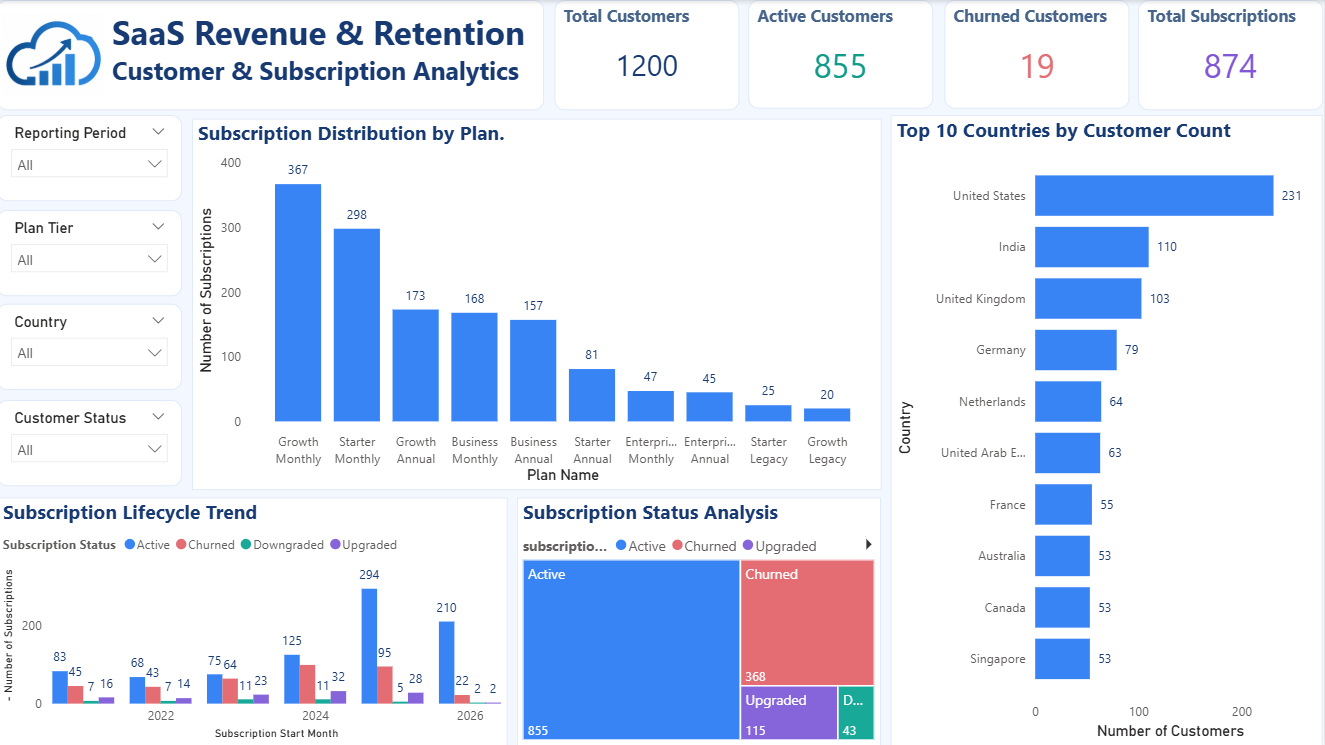

Layout of this report page (visuals, bound fields, positions):
{"tool":"powerbi","page":{"name":"Customer & Subscription Analytics","canvas":[1280,720],"ordinal":1},"visuals":[{"type":"card","title":"Total Customers","fields":{"Values":["customers.Total Customers (Selected Filters)"]},"box":[538.1,0,178.6,106.2],"z":0},{"type":"card","title":"Active Customers","fields":{"Values":["nrr_grr_monthly.Latest Active Customers"]},"box":[725.1,0,178.6,105],"z":1000},{"type":"card","title":"Churned Customers","fields":{"Values":["customers.Churned Customers"]},"box":[914.5,0,178.6,105],"z":2000},{"type":"card","title":"Total Subscriptions","fields":{"Values":["customers.Total Subscriptions"]},"box":[1101.4,0,178.6,106.2],"z":3000},{"type":"slicer","fields":{"Values":["subscription_months.period_month"]},"box":[0,111,178.6,83.2],"z":4000},{"type":"slicer","fields":{"Values":["plans.tier"]},"box":[0,202.7,178.6,83.2],"z":5000},{"type":"slicer","fields":{"Values":["customers.country"]},"box":[0,293.2,178.6,83.2],"z":6000},{"type":"slicer","fields":{"Values":["customers.customer_status"]},"box":[0,386.1,178.6,83.2],"z":7000},{"type":"image","box":[0,0,108.8,105.2],"z":8000},{"type":"textbox","box":[0,0,528.3,106.4],"z":9000},{"type":"image","box":[0,0,108.4,105.7],"z":10000},{"type":"treemap","title":"Subscription Status Analysis","fields":{"Values":["Count(subscriptions.subscription_id)"],"Group":["subscriptions.subscription_status"]},"box":[502.2,480.3,351.3,240.1],"z":11000},{"type":"clusteredBarChart","title":"Top 10 Countries by Customer Count","fields":{"Category":["customers.country"],"Y":["Count(customers.customer_id)"]},"box":[863.1,111.1,417.2,609.3],"z":12000},{"type":"clusteredColumnChart","title":"Subscription Distribution by Plan.","fields":{"Category":["plans.plan_name"],"Y":["Count(subscriptions.subscription_id)"]},"box":[188.3,114.9,665.2,358.3],"z":13000},{"type":"clusteredColumnChart","title":"Subscription Lifecycle Trend","fields":{"Category":["subscriptions.start_date.Variation.Date Hierarchy.Year","subscriptions.start_date.Variation.Date Hierarchy.Month"],"Y":["Count(subscriptions.subscription_id)"],"Series":["subscriptions.subscription_status"]},"box":[0,480.3,492.6,240.1],"z":14000}]}

Visuals, with their boxes in screenshot pixels (x1, y1, x2, y2), scaled from the page's 1280x720 canvas onto the 1325x745 screenshot:
"Total Customers" card: 557:0:742:110
"Active Customers" card: 751:0:935:109
"Churned Customers" card: 947:0:1132:109
"Total Subscriptions" card: 1140:0:1324:110
slicer - subscription_months.period_month: 0:115:185:201
slicer - plans.tier: 0:210:185:296
slicer - customers.country: 0:303:185:389
slicer - customers.customer_status: 0:400:185:486
image: 0:0:113:109
textbox: 0:0:547:110
image: 0:0:112:109
"Subscription Status Analysis" treemap: 520:497:884:744
"Top 10 Countries by Customer Count" clusteredBarChart: 893:115:1324:744
"Subscription Distribution by Plan." clusteredColumnChart: 195:119:884:490
"Subscription Lifecycle Trend" clusteredColumnChart: 0:497:510:744
